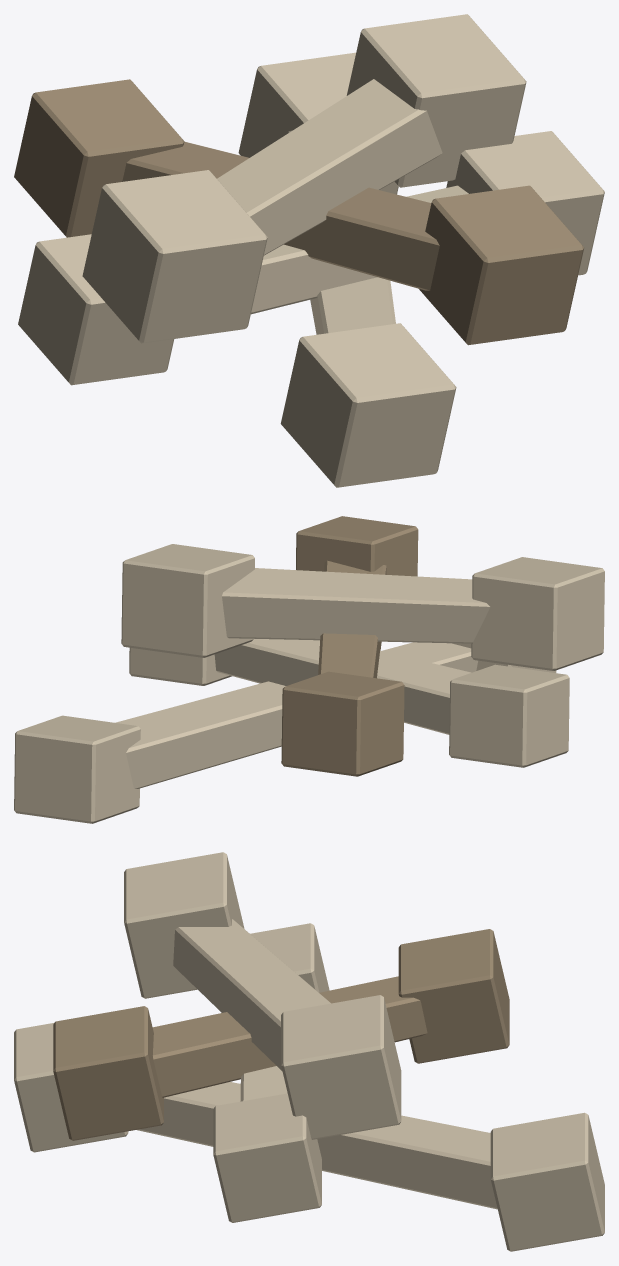
3 renders of one model, top to bottom at view 1: azimuth 30°, elevation 25°; view 2: azimuth 150°, elevation 25°; view 3: azimuth 270°, elevation 25°, orthographic. The views are drawn at different scales.
Visible parts, largest first — view 1: PT-bone, PT-bone_dark; view 2: PT-bone, PT-bone_dark; view 3: PT-bone, PT-bone_dark.
Boxes of the visible parts, x1=… form: PT-bone: x1=18, y1=14, x2=604, y2=487; PT-bone_dark: x1=14, y1=79, x2=584, y2=345; PT-bone: x1=14, y1=544, x2=604, y2=823; PT-bone_dark: x1=281, y1=516, x2=418, y2=776; PT-bone: x1=14, y1=852, x2=604, y2=1251; PT-bone_dark: x1=53, y1=929, x2=509, y2=1140.
Bounding box in the file's own units: 0.6616 × 0.3121 × 0.7812.
